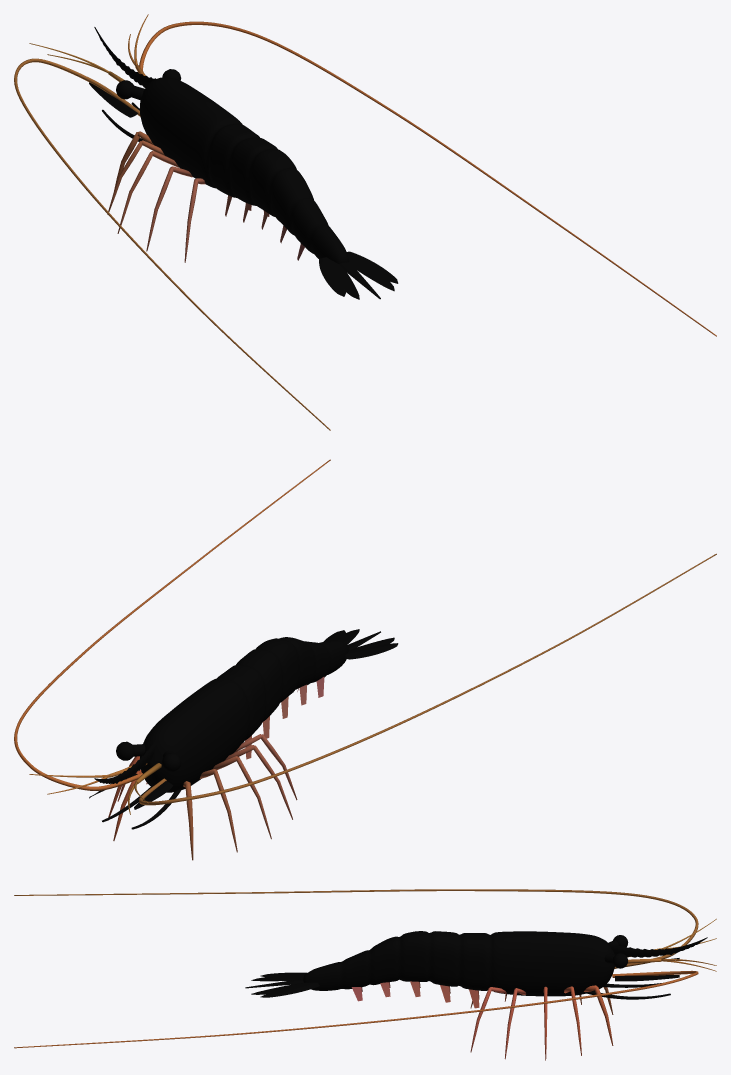
File: spot_prawn.glb
3 views of the same model, one above another, from view 1: azimuth 30°, elevation 25°; view 2: azimuth 150°, elevation 25°; view 3: azimuth 270°, elevation 25° (orthographic). The views are drawn at different scales.
Visible parts, largest first — view 1: spot_prawn; view 2: spot_prawn; view 3: spot_prawn.
Boxes of the visible parts, x1,y1,x2,y2 form: spot_prawn: (14, 14, 716, 430); spot_prawn: (14, 459, 716, 860); spot_prawn: (14, 889, 716, 1060).
Bounding box in the file's own units: 0.1564 × 0.0465 × 0.3042.
